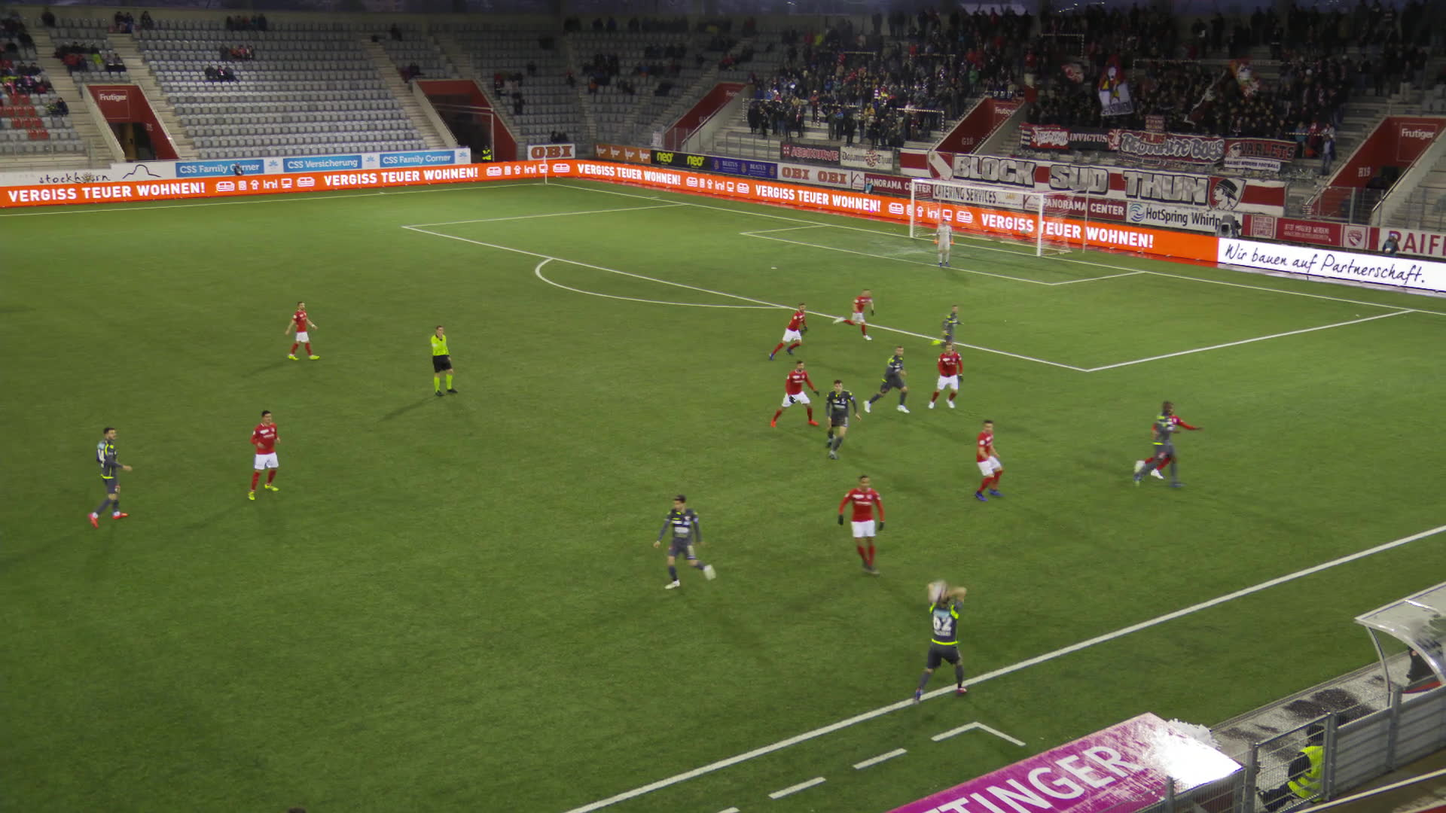ball: (926, 580, 948, 602)
player: (651, 492, 728, 591), (913, 578, 970, 708), (1130, 399, 1204, 481), (834, 472, 888, 579), (1131, 398, 1187, 492), (84, 426, 133, 530), (769, 358, 822, 429), (244, 408, 282, 504), (820, 378, 863, 461), (862, 343, 911, 415), (970, 418, 1007, 504), (926, 339, 967, 414), (766, 302, 810, 362), (831, 286, 876, 343), (283, 299, 322, 361), (929, 300, 966, 354), (932, 217, 954, 268)
referee: (429, 323, 459, 397)
